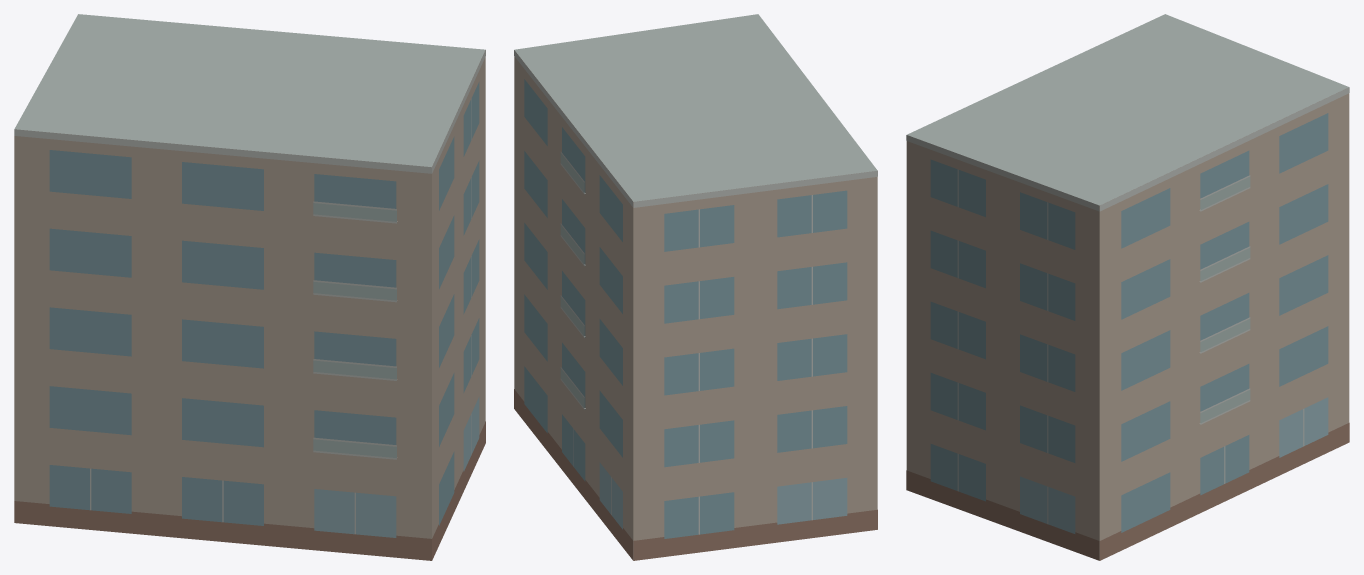
Rendered from survey-upis-32526084.glb.
The picture shows the model from 3 angles, left to right: view 1: azimuth 30°, elevation 25°; view 2: azimuth 150°, elevation 25°; view 3: azimuth 270°, elevation 25°; orthographic projection. The views are drawn at different scales.
Visible parts, largest first — view 1: survey-upis-32526084.tmp; view 2: survey-upis-32526084.tmp; view 3: survey-upis-32526084.tmp.
Part boxes in pixels (x1,y1,x2,y2): survey-upis-32526084.tmp: (14,14,485,560); survey-upis-32526084.tmp: (514,14,877,560); survey-upis-32526084.tmp: (906,14,1349,560).
Bounding box in the file's own units: 16.66 × 14.4 × 16.27.
